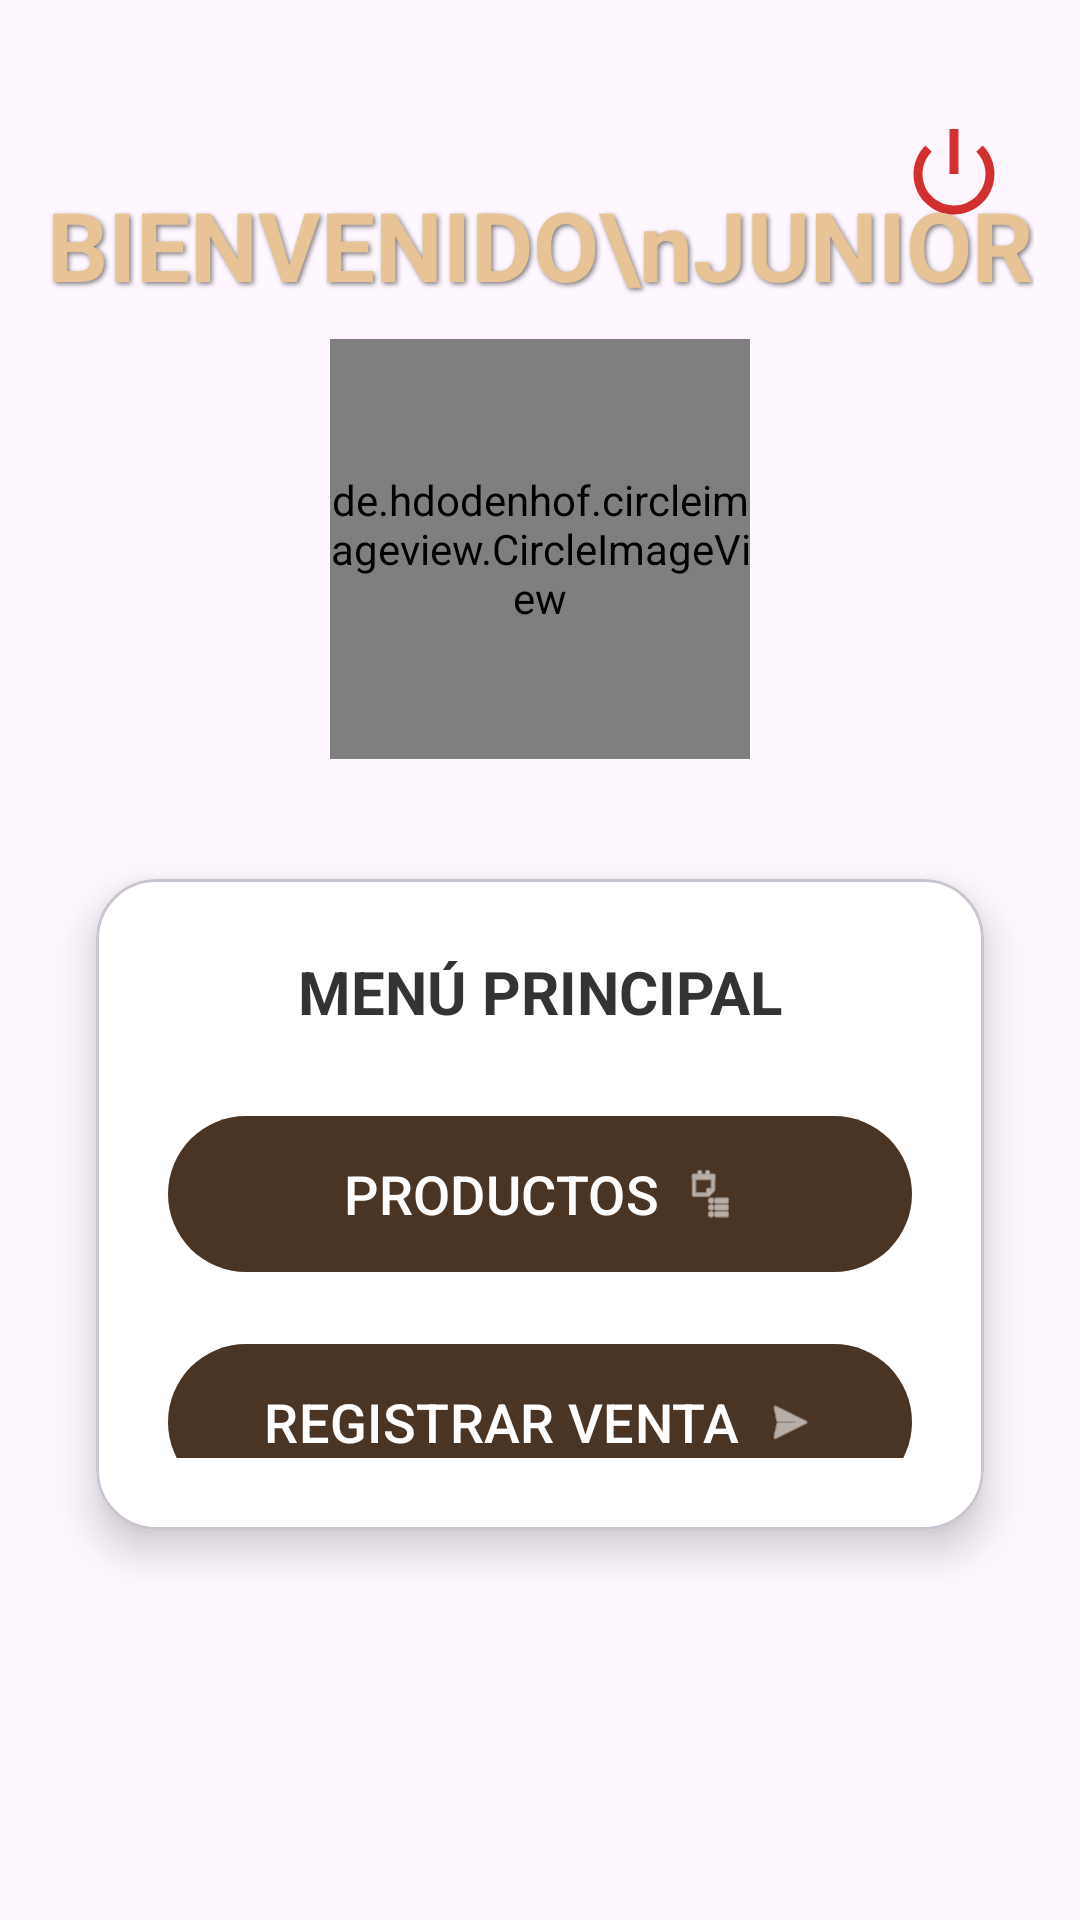

Named icons in this screenshot (1080px x 1920px) and their bounding boxes, (x1, y1, x2, y2):
lock power off: (900, 129, 1008, 228)
